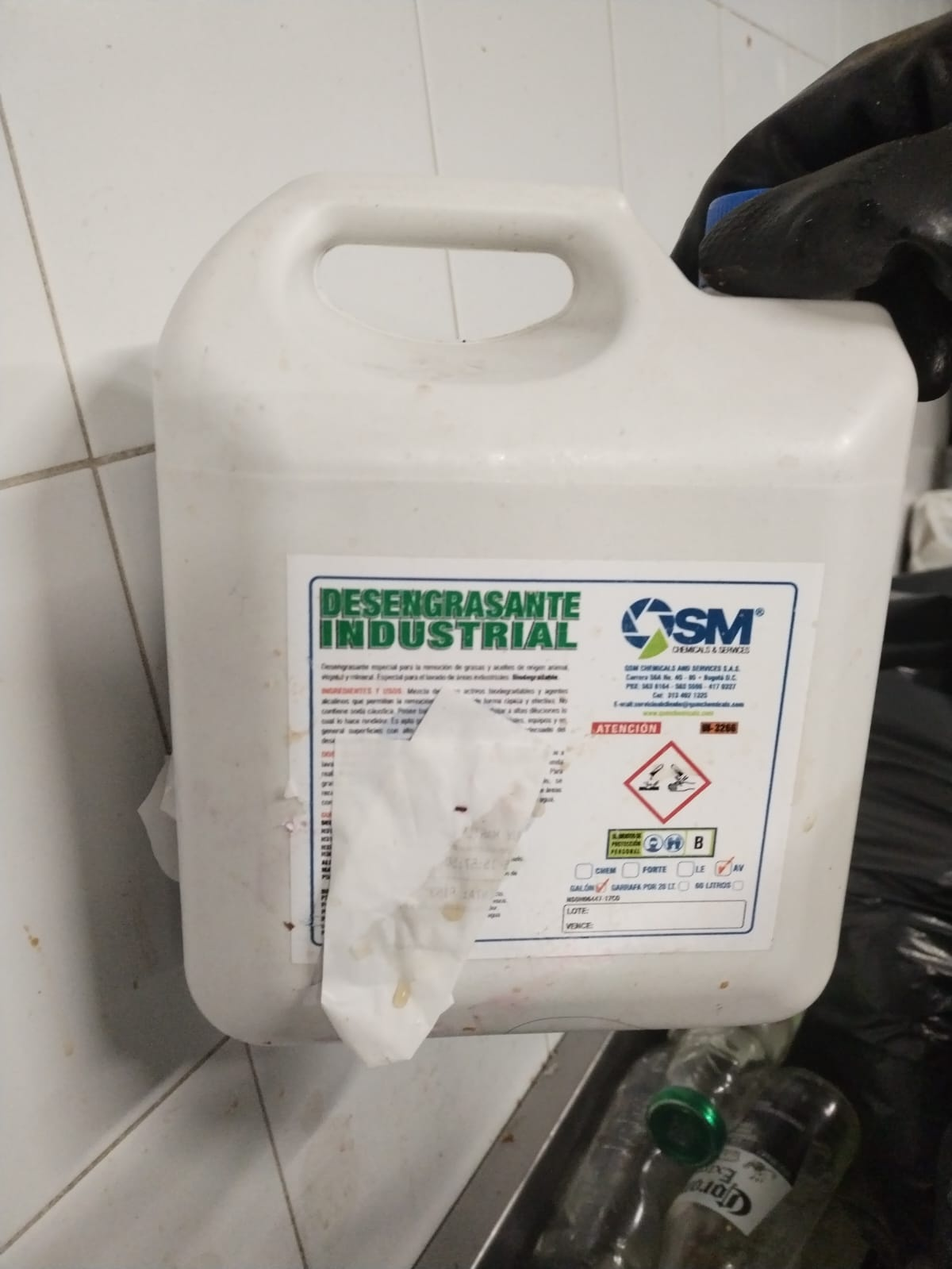Plastico: (156, 168, 920, 1044)
